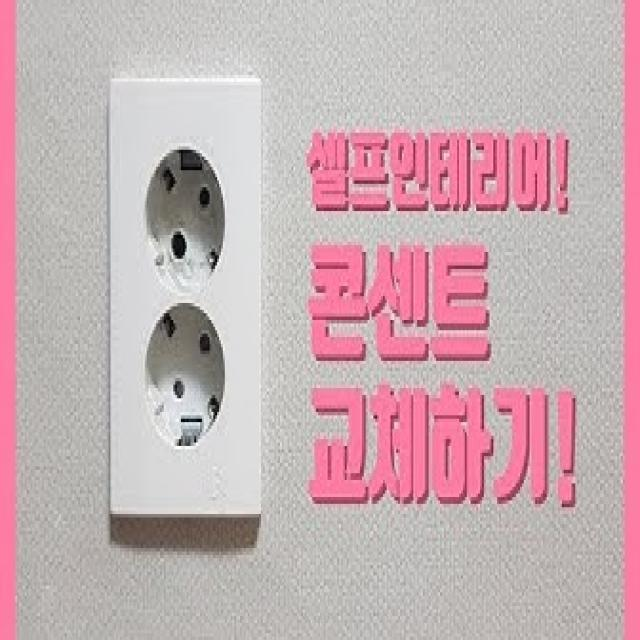typeb: (101, 72, 286, 569)
